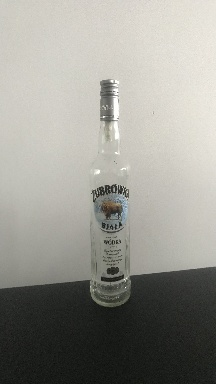butelka: (87, 76, 132, 310)
